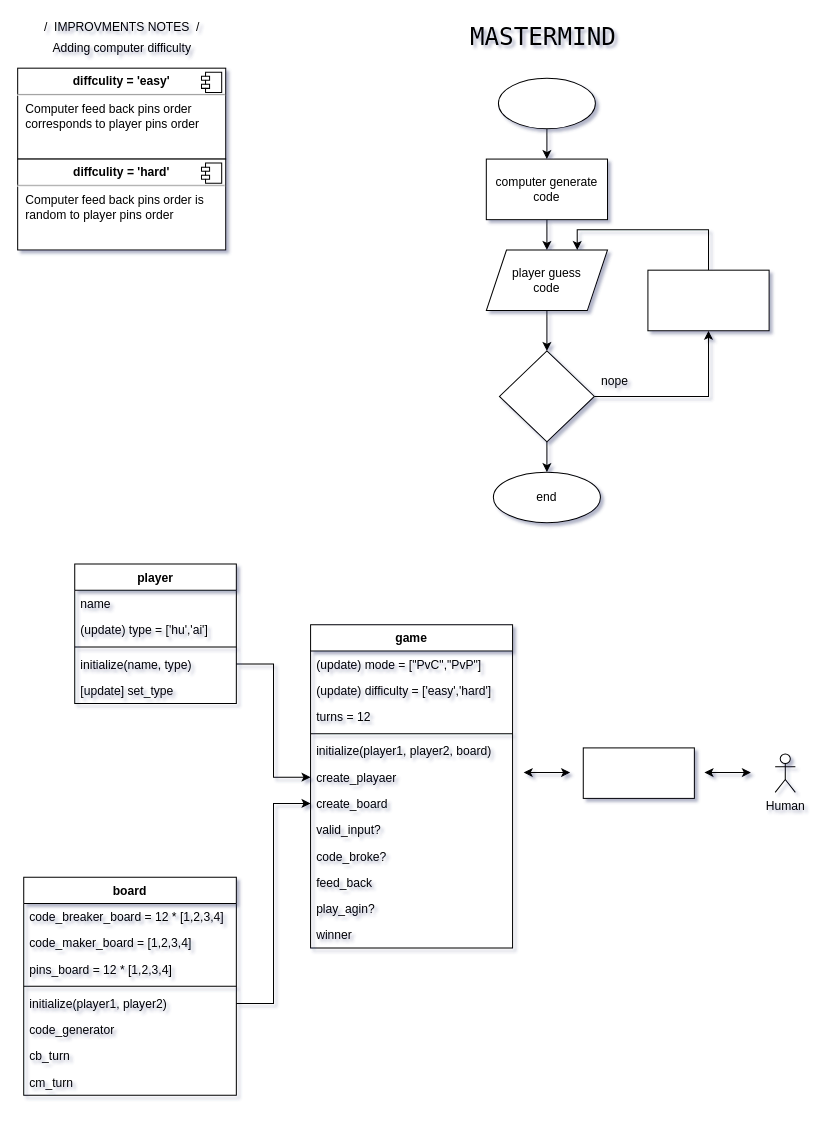
Some shapes in this 828 by 1121 pixel diagram are drawn without their labels. Each missing label, with the centre of its shape:
"feedback" belongs at (708,300).
"right guess ?" belongs at (546,396).
"Start" belongs at (546,103).
"«interface» main" belongs at (638,772).
